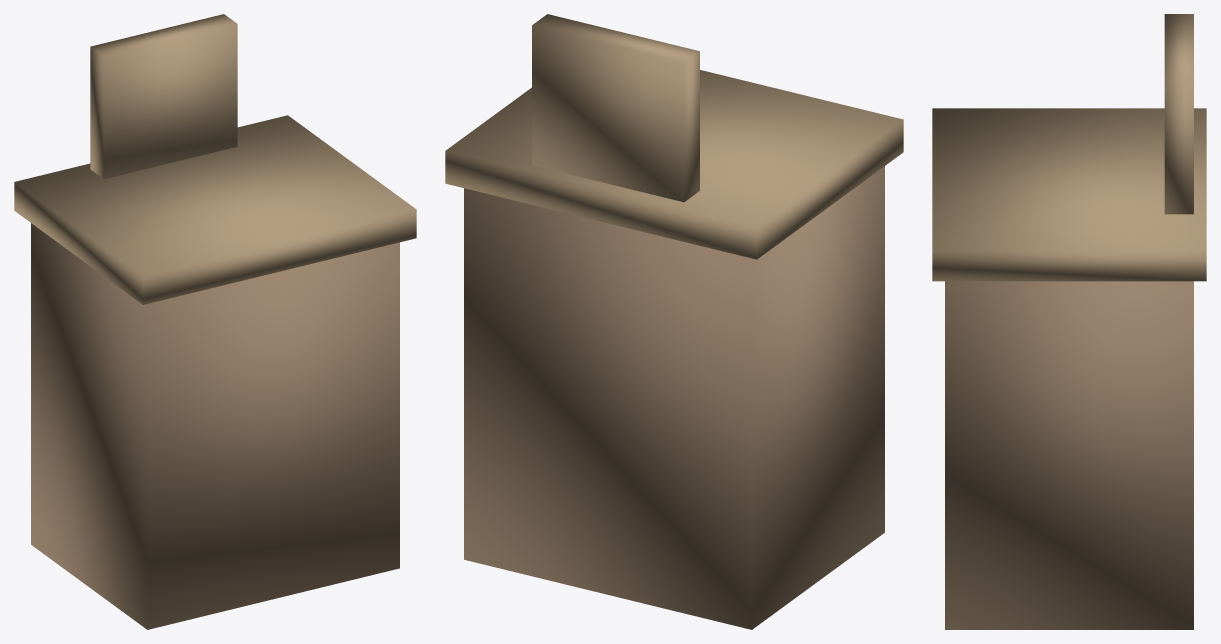
The model's file is witness_stand__tall.glb.
The picture shows the model from 3 angles, left to right: view 1: azimuth 30°, elevation 25°; view 2: azimuth 150°, elevation 25°; view 3: azimuth 270°, elevation 25°; orthographic projection. The views are drawn at different scales.
Visible parts, largest first — view 1: world; view 2: world; view 3: world.
Boxes of the visible parts, x1,y1,x2,y2 form: world: [14, 14, 416, 629]; world: [445, 14, 903, 629]; world: [932, 14, 1206, 629].
Bounding box in the file's own units: 0.92 × 1.55 × 0.75.
